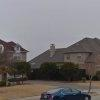Car: (36, 84, 100, 100)
